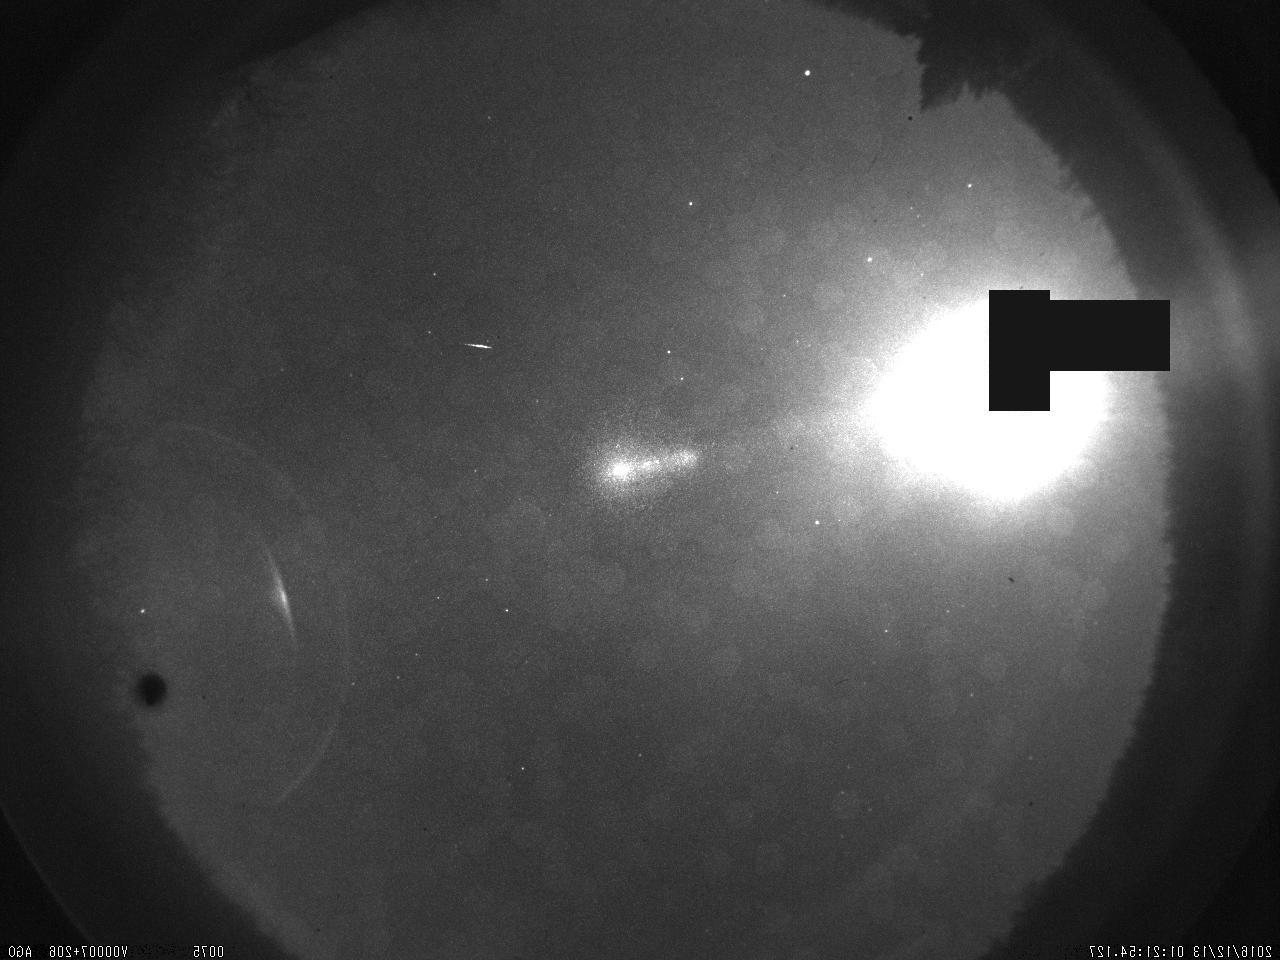meteor: (457, 333, 499, 357)
